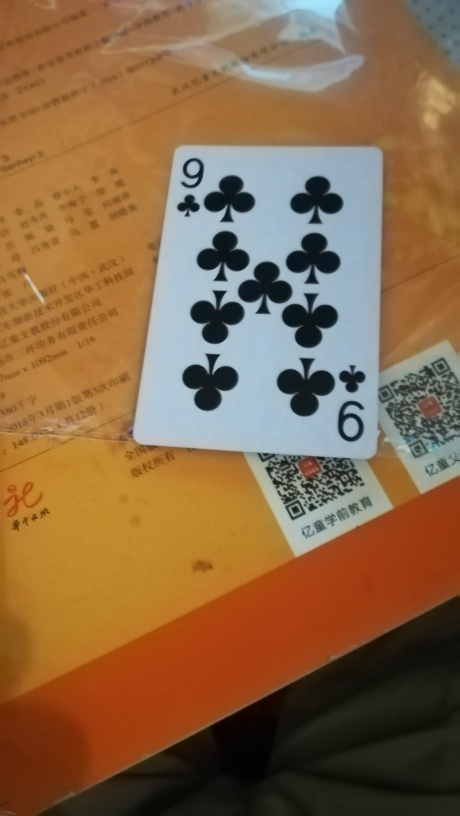mh 9: (130, 144, 385, 460)
